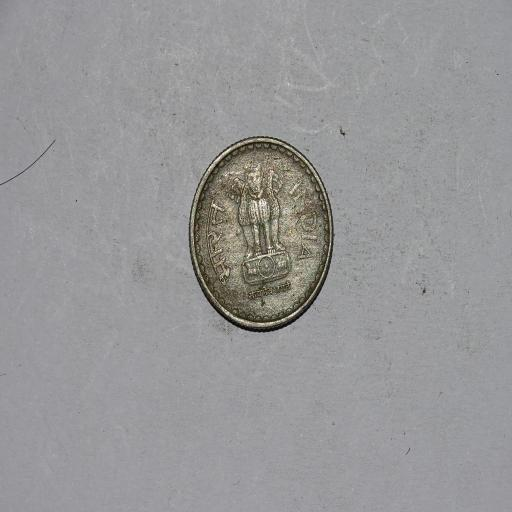rupee5: (188, 137, 335, 330)
